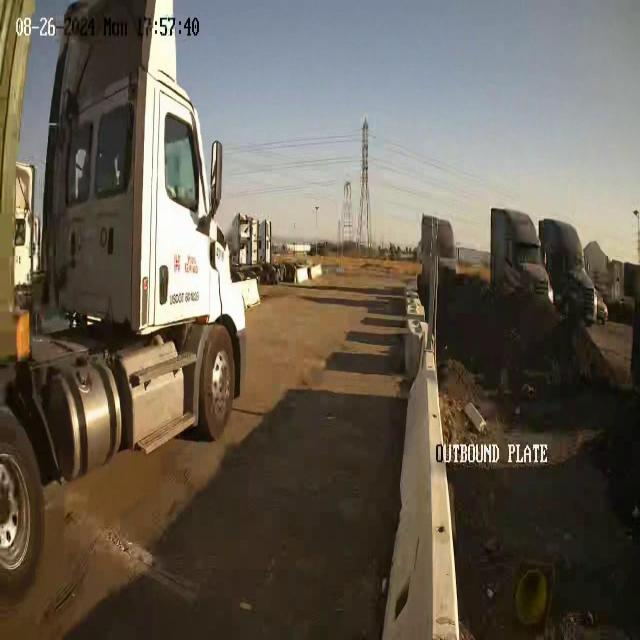TRUCK_IN: (1, 1, 260, 593)
